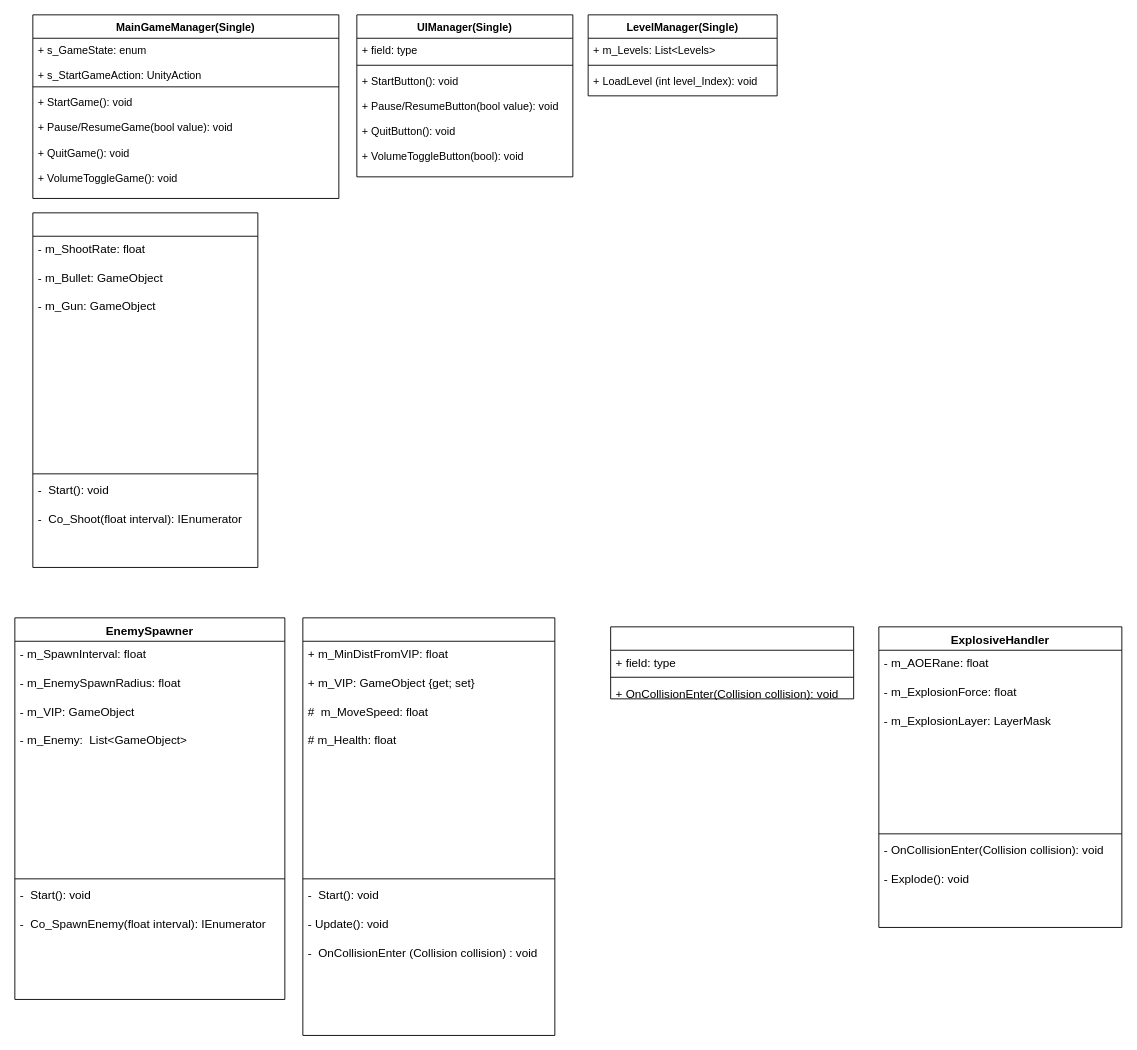
Some shapes in this 1137 by 1050 pixel diagram are drawn without their labels. Each missing label, with the box of its shape:
BulletHandler: (610, 626, 854, 699)
EnemyHandlerBase: (302, 617, 555, 1035)
PlayerManager: (32, 212, 258, 567)
